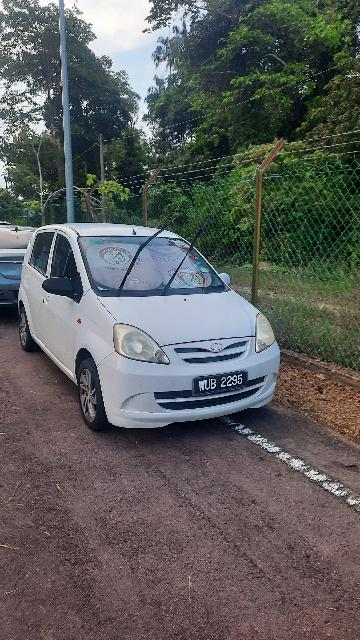License_Plate: (188, 368, 252, 398)
car: (18, 221, 286, 437)
